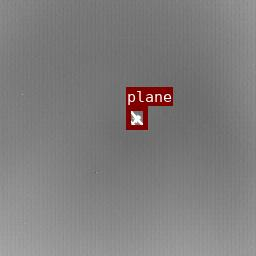plane: (126, 106, 147, 129)
